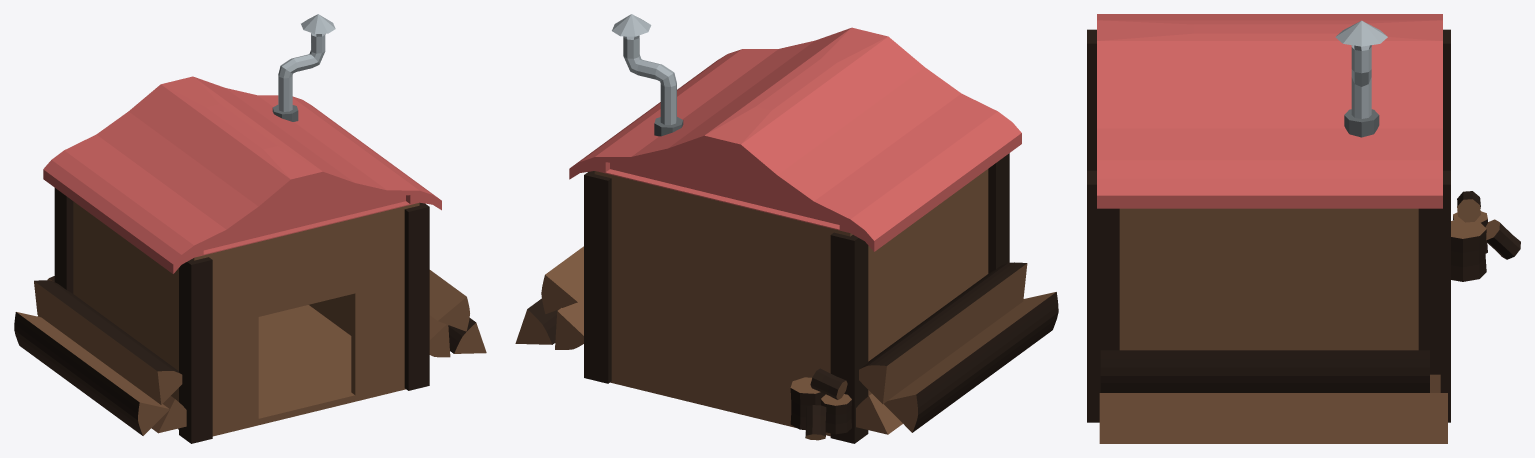
The model's file is Barn.fbx.
The picture shows the model from 3 angles, left to right: view 1: azimuth 30°, elevation 25°; view 2: azimuth 150°, elevation 25°; view 3: azimuth 270°, elevation 25°; orthographic projection. The views are drawn at different scales.
Parts seen in each view (by area): view 1: House, Outter; view 2: House, Outter; view 3: House, Outter.
Boxes of the visible parts, box(x1,y1,x2,y2) form: House: box(43, 14, 441, 436); Outter: box(14, 188, 486, 443); House: box(569, 14, 1021, 436); Outter: box(515, 153, 1058, 443); House: box(1097, 14, 1442, 350); Outter: box(1087, 29, 1520, 443).
Size of the model in its own units: 795 by 653 by 644.
